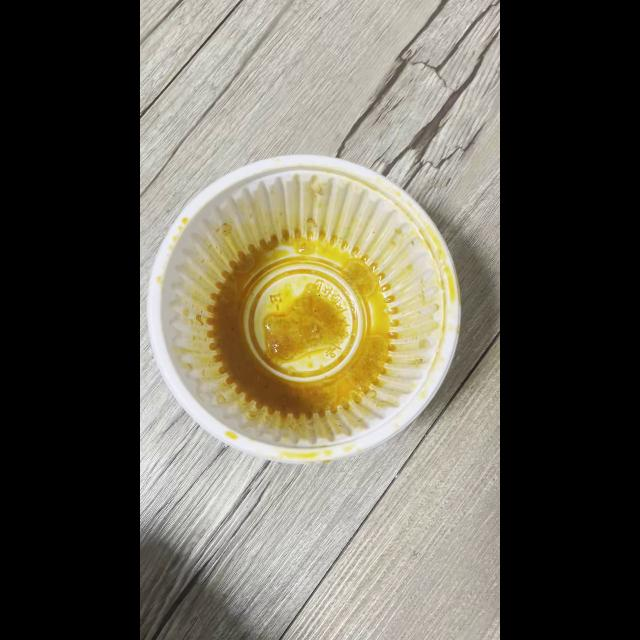dirty: (154, 158, 463, 466)
